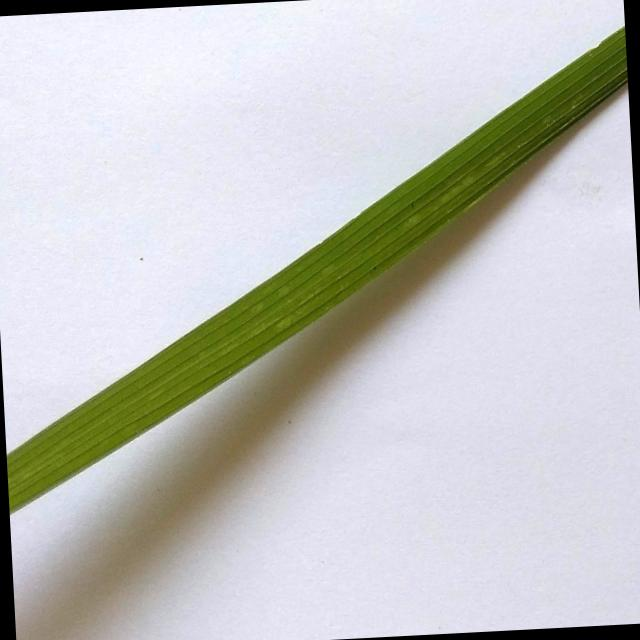Rice_Healthy: (7, 27, 627, 513)
